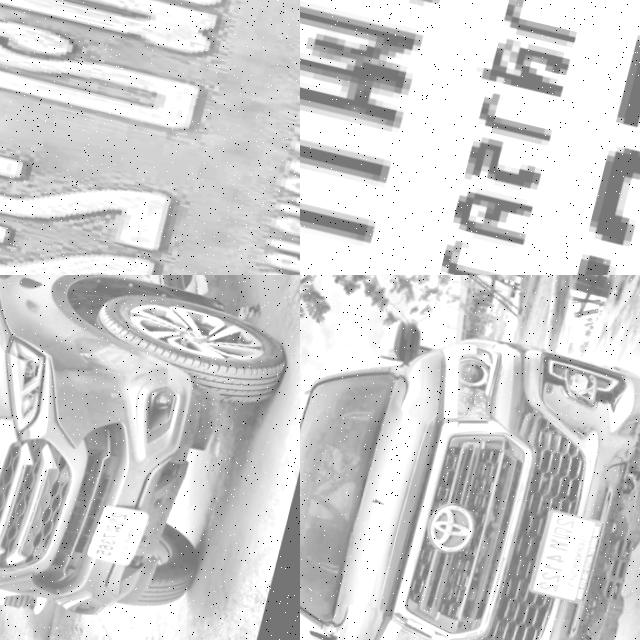license-plate: (300, 0, 640, 275), (0, 0, 300, 275), (526, 504, 614, 606), (85, 497, 157, 569)
